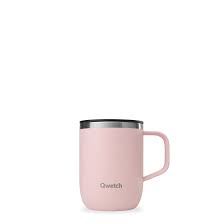mug: (54, 110, 187, 210)
